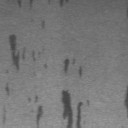red iron: (60, 90, 90, 128), (8, 34, 20, 71), (34, 94, 46, 128), (62, 58, 82, 78), (18, 0, 34, 8), (124, 87, 128, 118), (4, 83, 10, 96), (41, 20, 46, 30), (32, 51, 36, 61), (60, 0, 64, 7)
